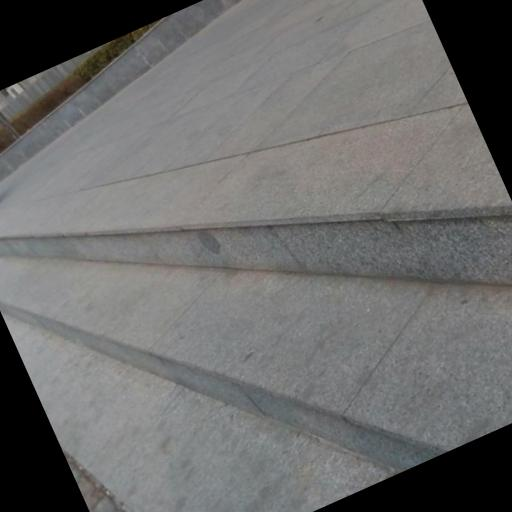stairs: (0, 110, 511, 471), (0, 105, 511, 283)
